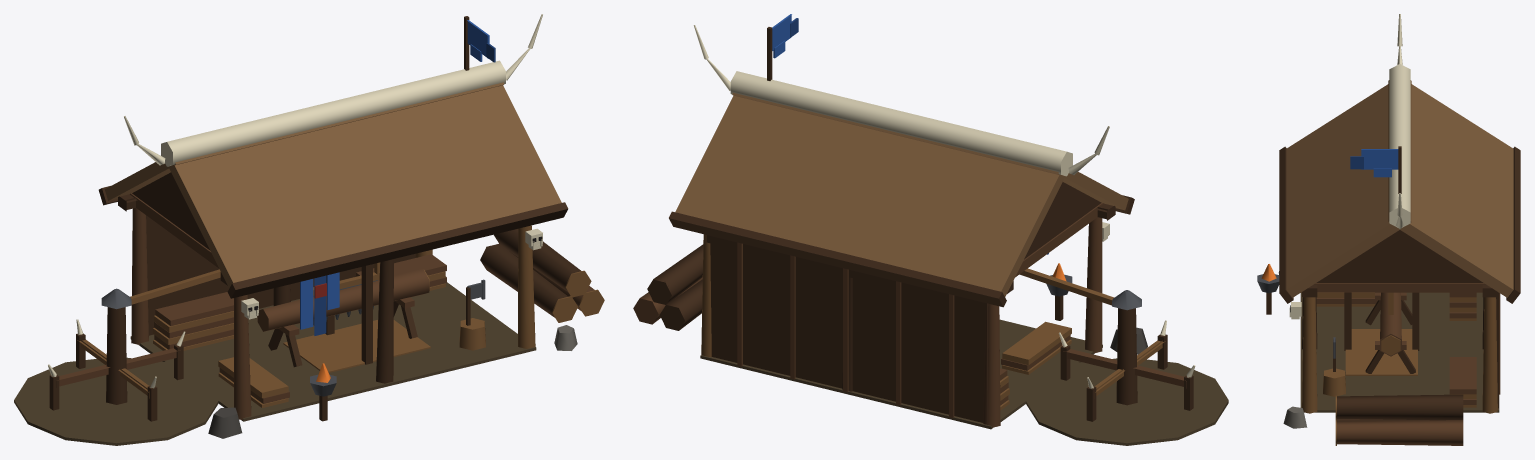
The model's file is orc-sawmill.glb.
3 renders of one model, left to right at view 1: azimuth 30°, elevation 25°; view 2: azimuth 150°, elevation 25°; view 3: azimuth 270°, elevation 25°, orthographic. The views are drawn at different scales.
Visible parts, largest first — view 1: orc-sawmill; view 2: orc-sawmill; view 3: orc-sawmill.
Part boxes in pixels (left/top/right/bottom): orc-sawmill: left=14, top=14, right=604, bottom=445; orc-sawmill: left=633, top=14, right=1228, bottom=445; orc-sawmill: left=1257, top=14, right=1520, bottom=445.
Size of the model in its own units: 12.29 by 6.35 by 5.83.
Materials: 1 (1 with a texture image).
